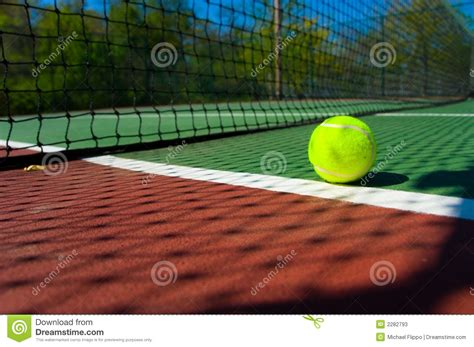tennis_ball: (308, 115, 376, 183)
